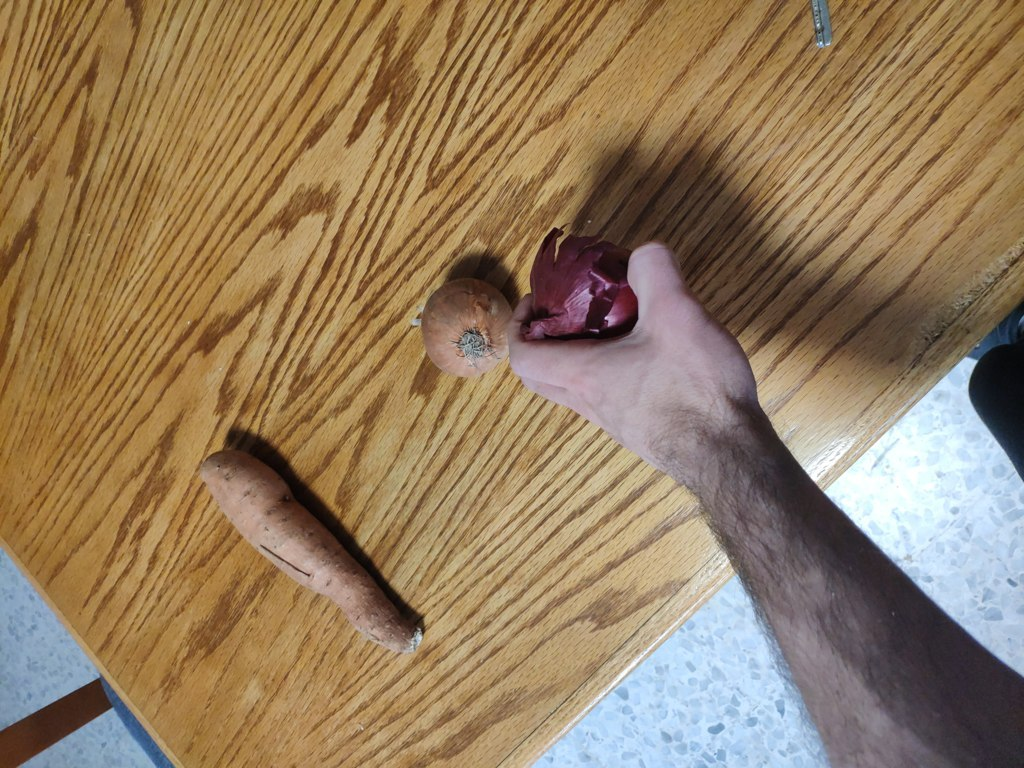Onion: (512, 247, 642, 346), (415, 270, 531, 375)
